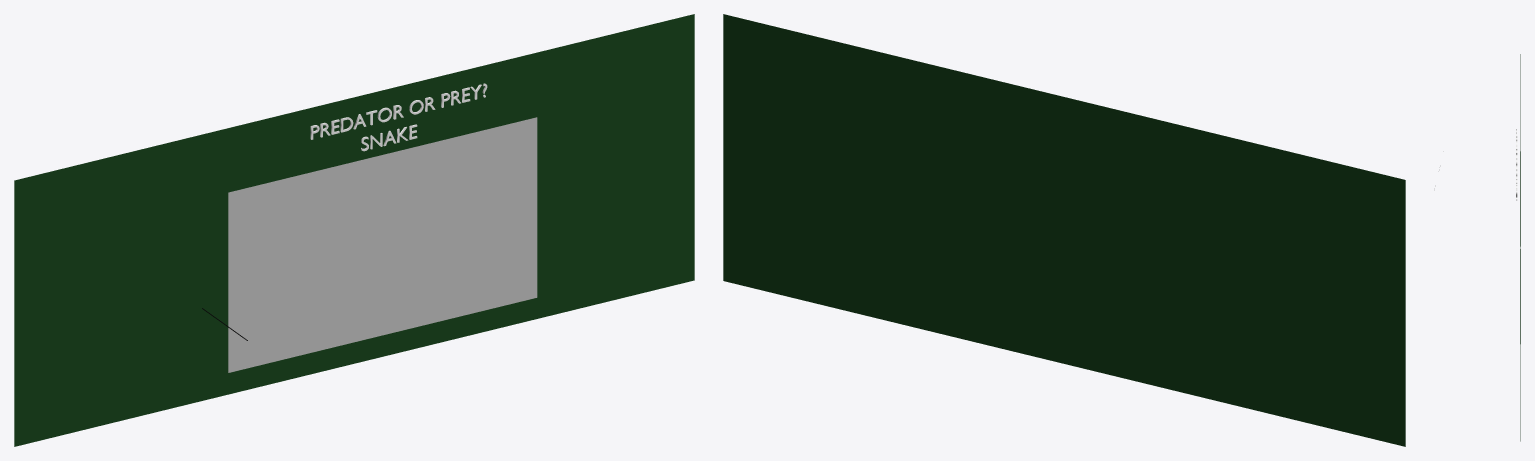
File: snake.gltf
3 views of the same model, side by side, from view 1: azimuth 30°, elevation 25°; view 2: azimuth 150°, elevation 25°; view 3: azimuth 270°, elevation 25° (orthographic). The views are drawn at different scales.
Parts seen in each view (by area): view 1: Plane.013, Plane, Text.008; view 2: Plane.013; view 3: Plane.013, Text.008.
Part boxes in pixels (bbox=[...]): Plane.013: bbox=[14, 14, 694, 446]; Plane: bbox=[228, 117, 537, 372]; Text.008: bbox=[310, 83, 487, 139]; Plane.013: bbox=[723, 14, 1405, 446]; Plane.013: bbox=[1520, 54, 1520, 441]; Text.008: bbox=[1516, 129, 1517, 200].
Size of the model in its own units: 15.94 by 5.96 by 2.43.
